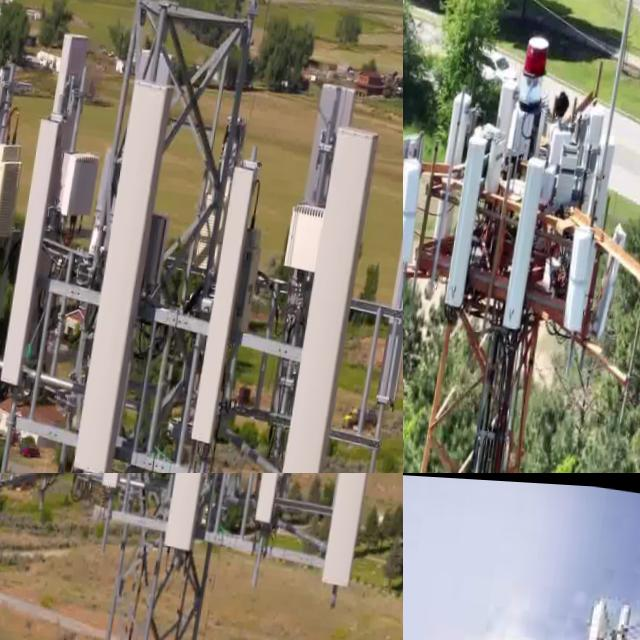GSM Antenna: (77, 66, 179, 473), (277, 105, 386, 473), (280, 61, 361, 368), (192, 152, 267, 457), (0, 106, 73, 398), (36, 23, 102, 236), (439, 128, 497, 313), (503, 146, 555, 334), (326, 473, 402, 592), (435, 83, 481, 239), (379, 132, 403, 418), (165, 473, 247, 554), (596, 217, 638, 347), (560, 210, 607, 324), (403, 150, 434, 282), (550, 583, 617, 640), (256, 473, 308, 530)
